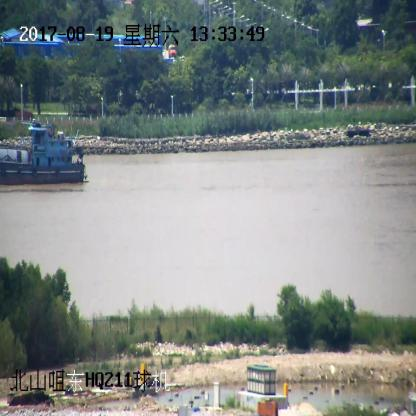Bulk Carrier: (0, 120, 87, 184)
